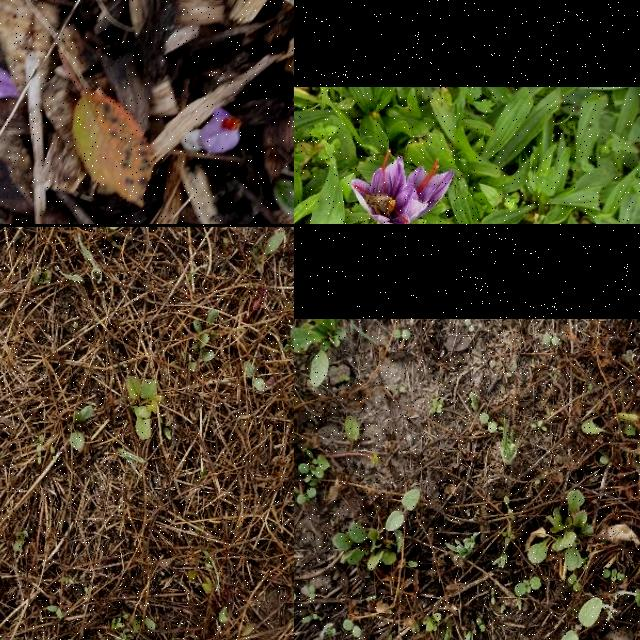flower: (198, 108, 242, 156)
overlap: (351, 149, 455, 224)
